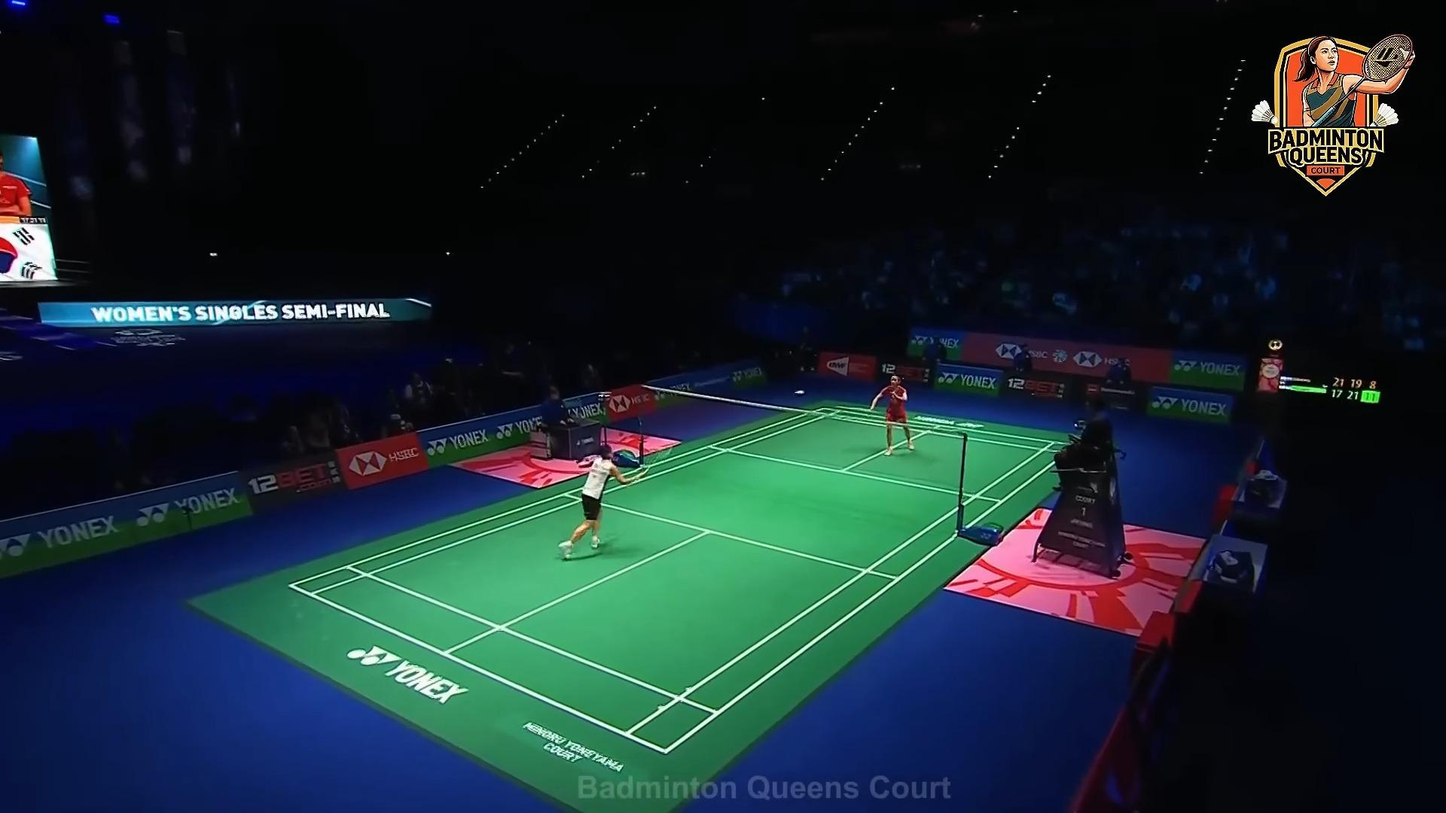shuttlecock: (1252, 99, 1277, 126), (795, 388, 806, 396)
